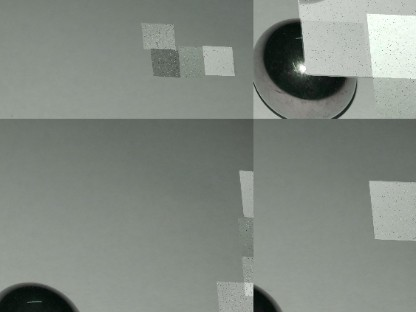ironball: (243, 14, 368, 119), (290, 0, 415, 77), (363, 11, 415, 118), (0, 278, 93, 310), (367, 178, 415, 238), (212, 278, 253, 312), (200, 43, 232, 73), (139, 21, 174, 48), (176, 43, 203, 76), (148, 46, 178, 75), (238, 167, 253, 215), (235, 214, 253, 254), (238, 253, 253, 294)
